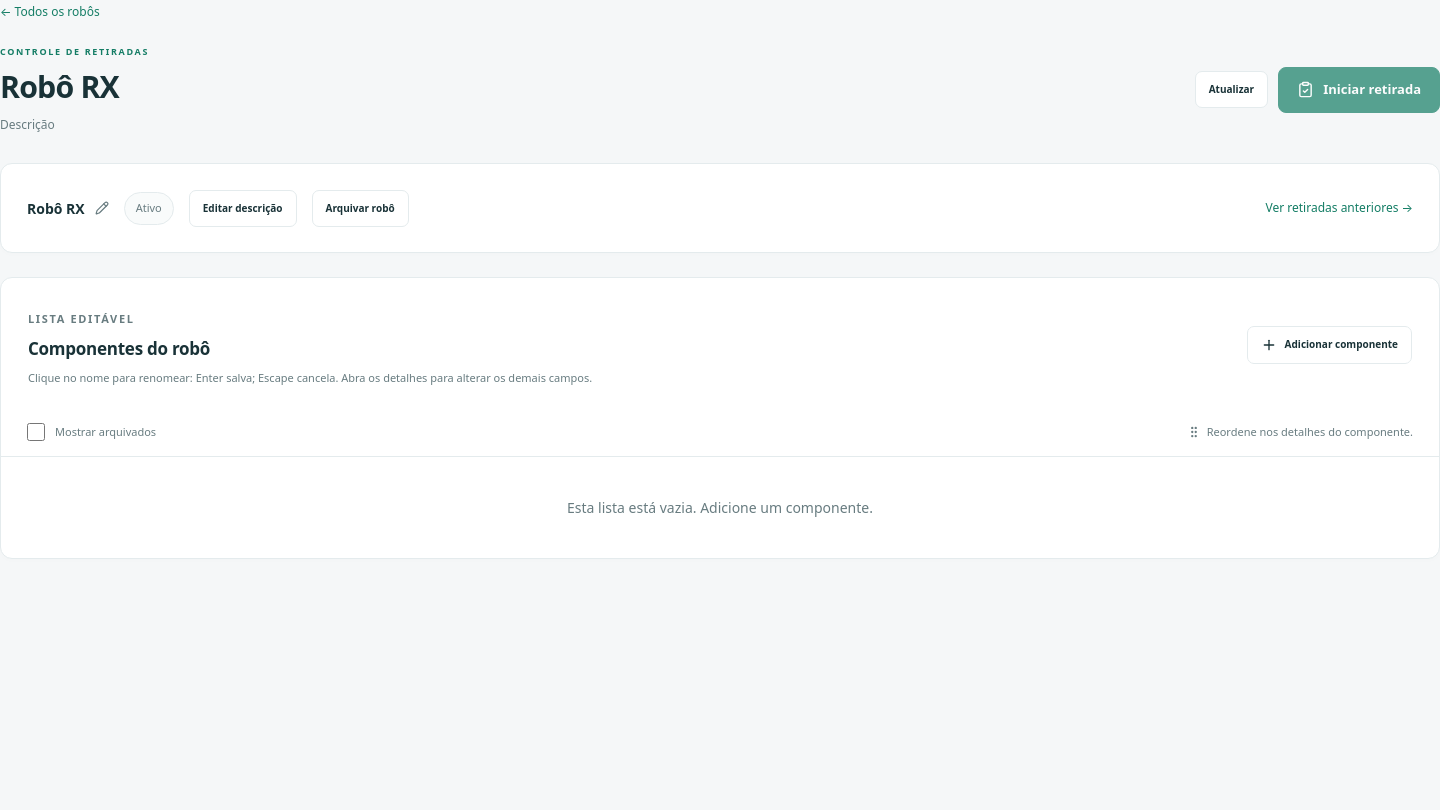
Test: cadastra componentes diretamente no robô sem precisar de categorias
Click the button "Adicionar componente" at (1329, 345), box [1247,326,1412,364]
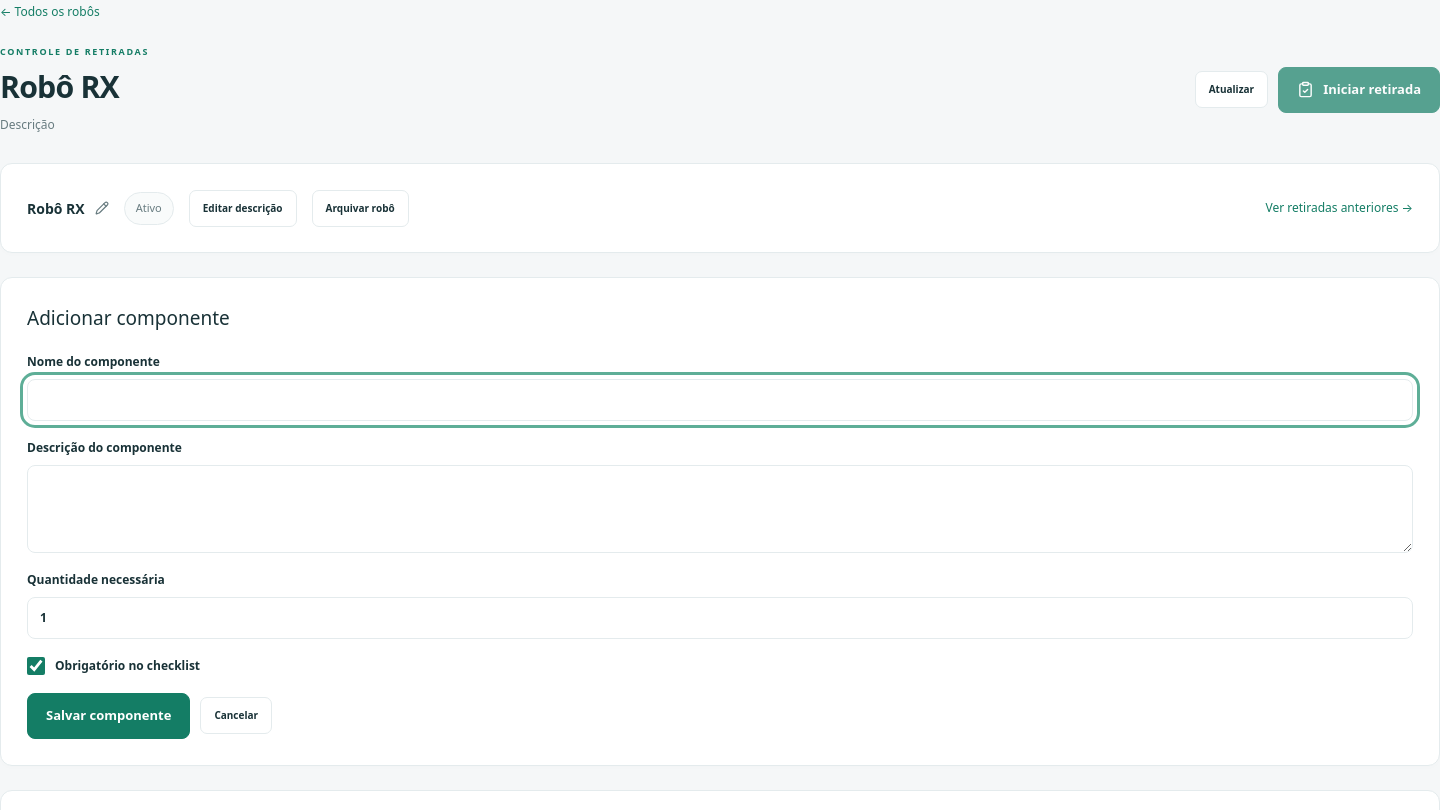
Type "Sensor de luz" into the field labelled "Nome do componente" at (720, 400), box [27,379,1413,421]
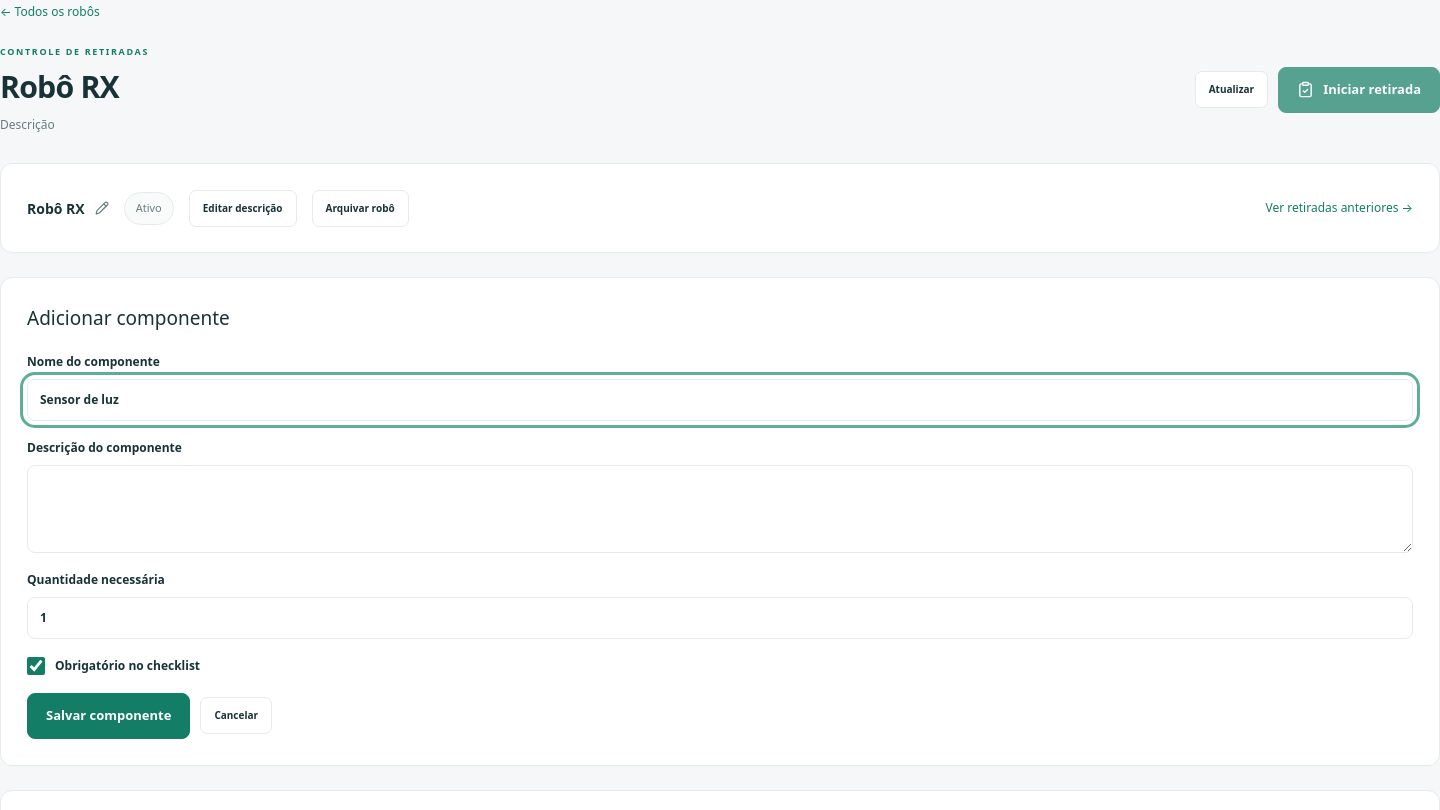
Type "Sensor reserva" into the text box labelled "Descrição do componente" at (720, 509), box [27,465,1413,553]
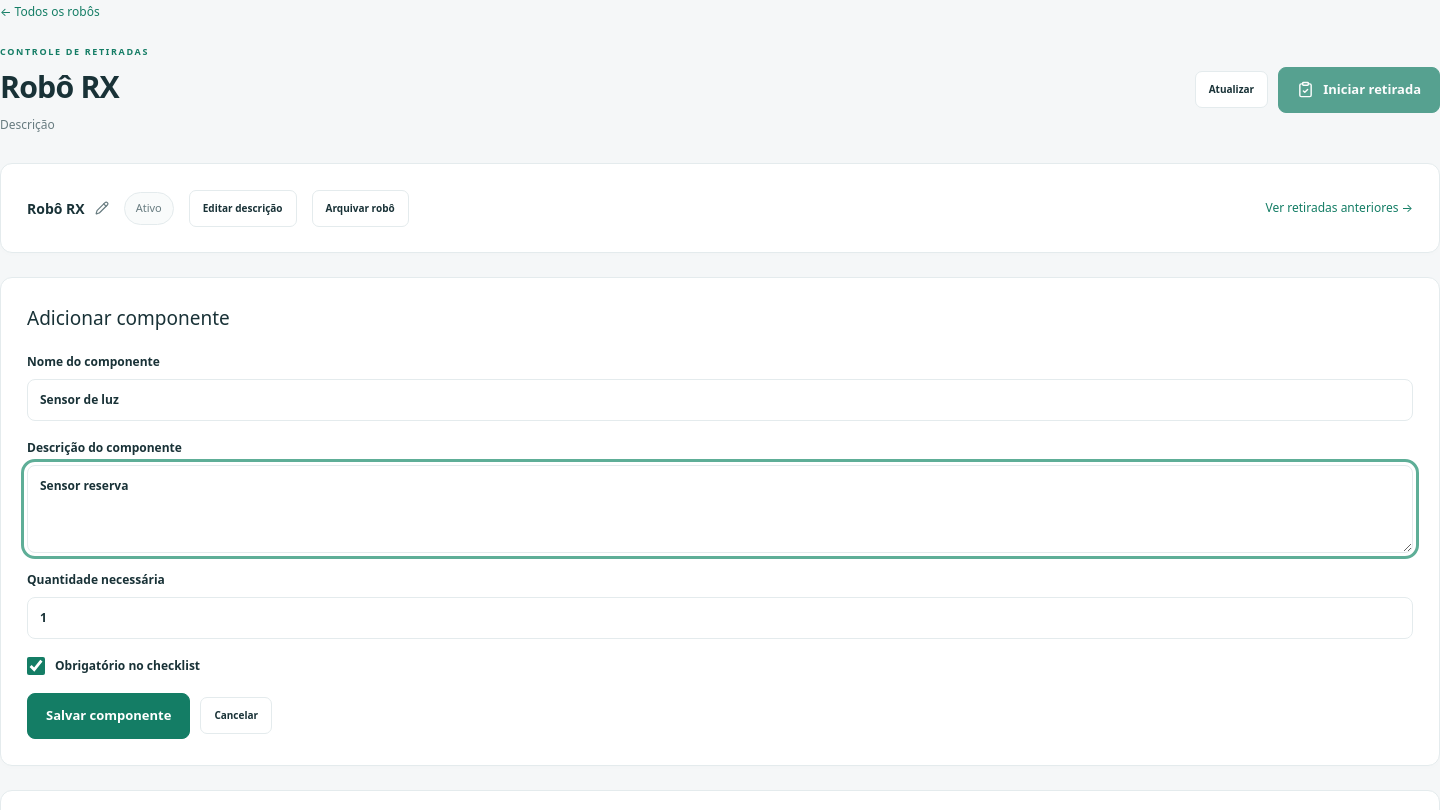
Click the button "Salvar componente" at (109, 716), box [27,693,190,739]
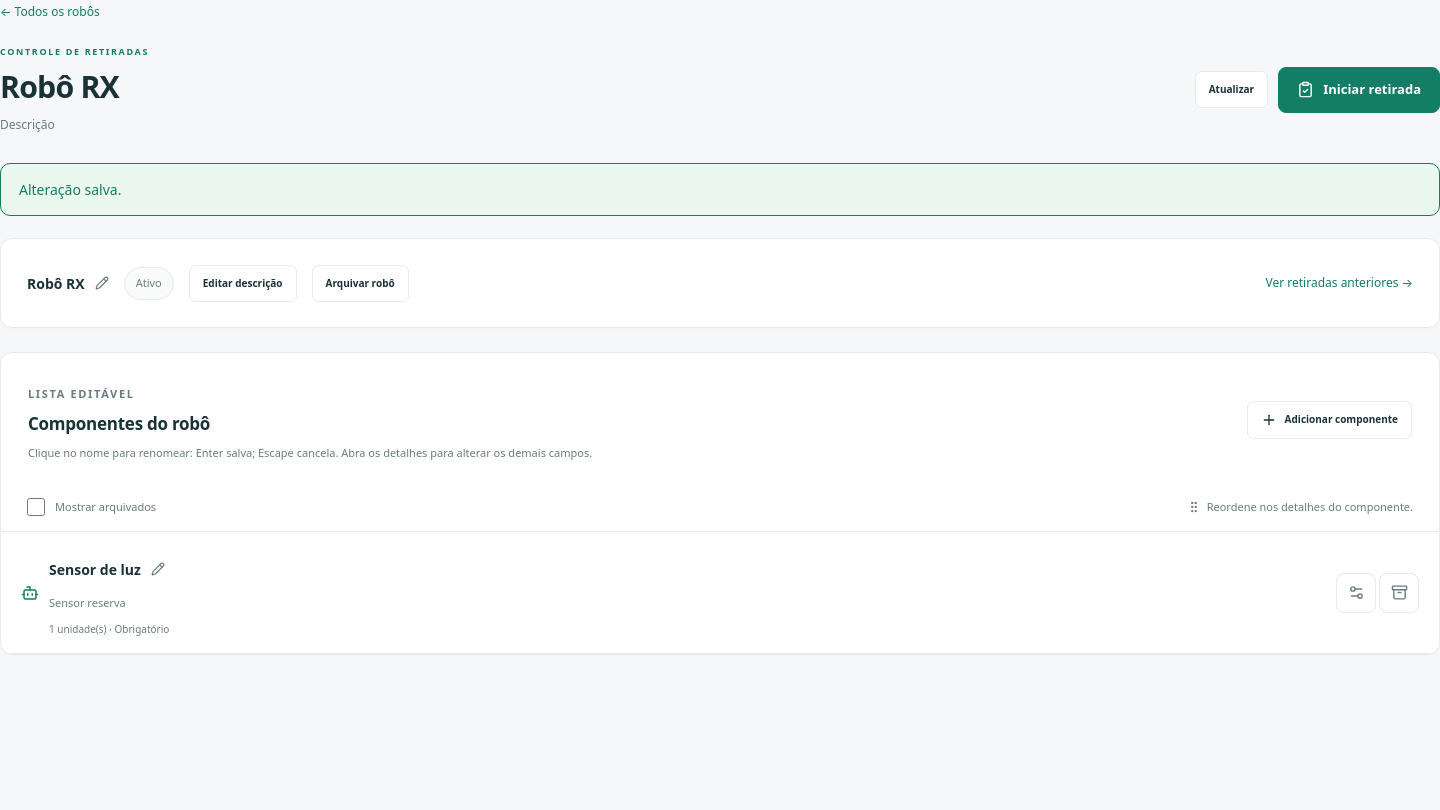
Now the button "Sensor de luz" is shown, box [49,547,165,591]
